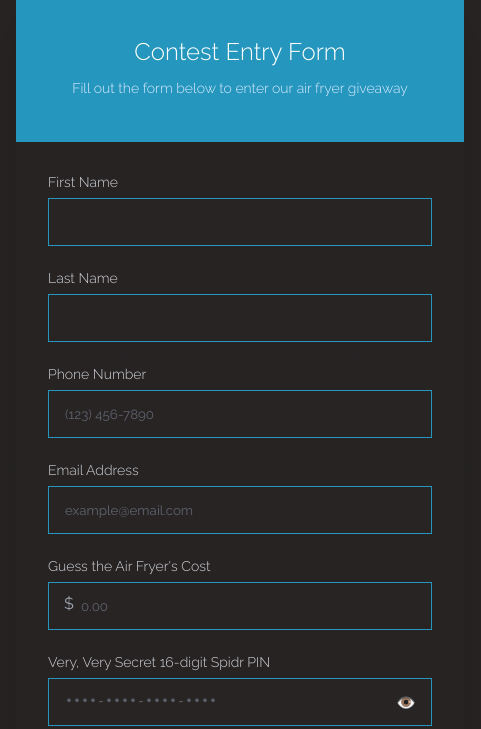
Test: SpidrForm Component › Email Validation › shows error for invalid email format
The width and height of the screenshot is (481, 729).
Step 1. Type "invalid-email" into the field labelled "Email Address" → x=240, y=510, box [48,486,432,534]
(page scrolled)
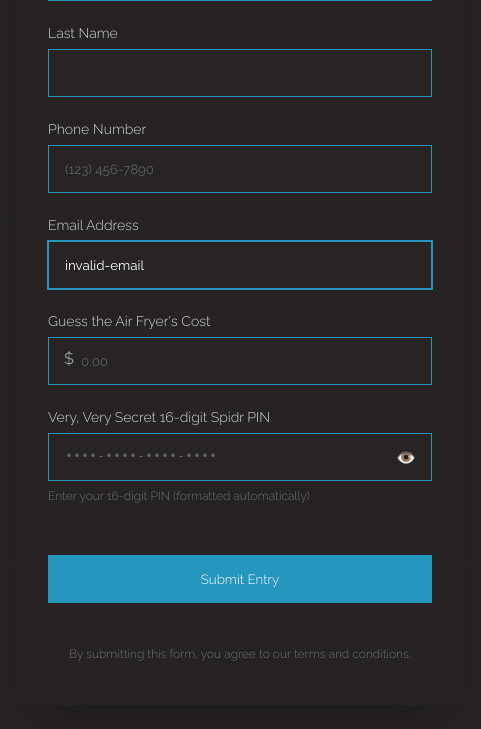
Step 2. Click the button "Submit Entry" → x=240, y=579, box [48,555,432,603]
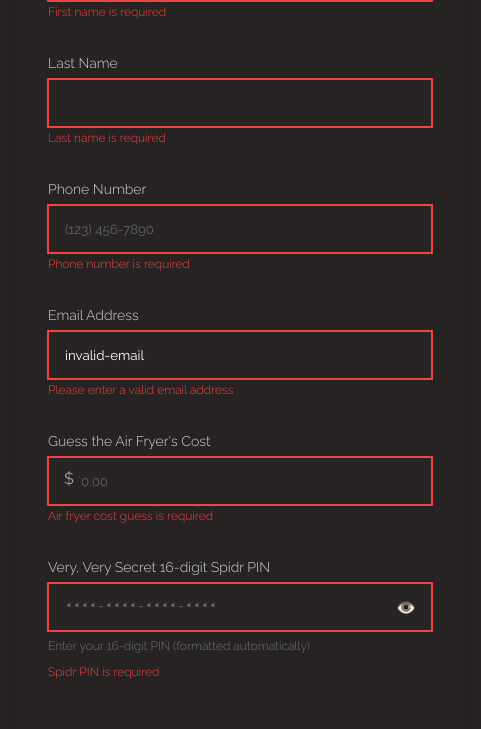
Check: the text "Please enter a valid email address" is shown, box [48,383,233,397]
